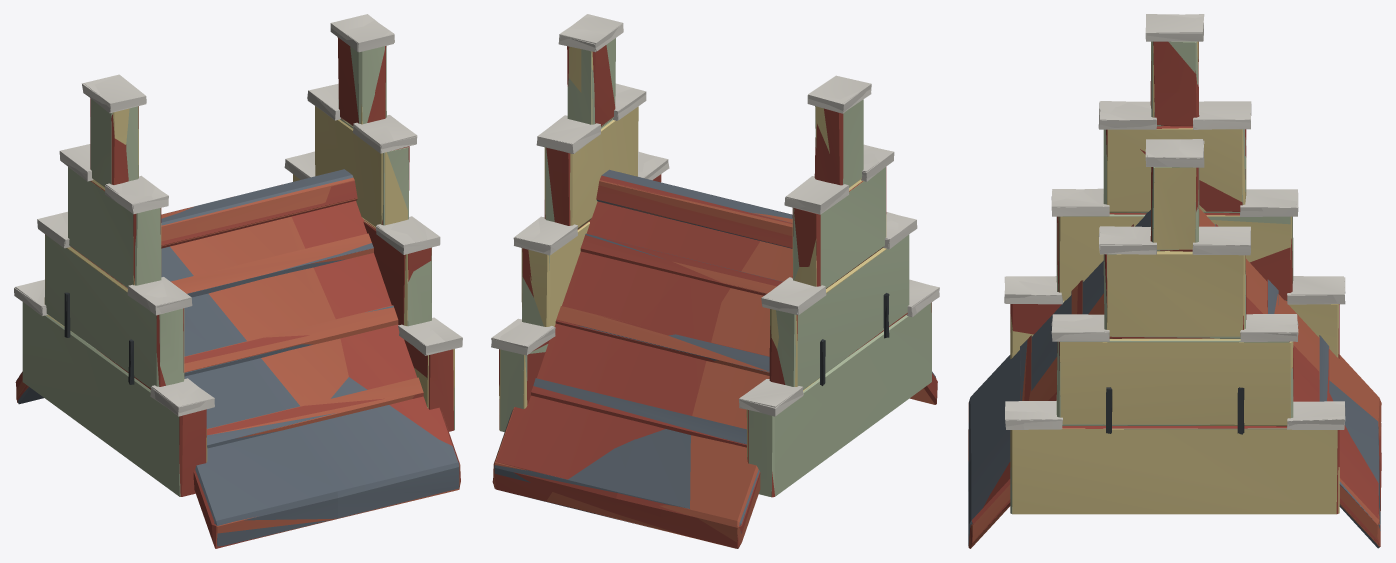
Rendered from roof.stepped_gable.glb.
3 views of the same model, side by side, from view 1: azimuth 30°, elevation 25°; view 2: azimuth 150°, elevation 25°; view 3: azimuth 270°, elevation 25° (orthographic). The views are drawn at different scales.
Visible parts, largest first — view 1: roof.stepped_gable.v2.mesh, roof.stepped_gable.v1.mesh, roof.stepped_gable.v0.mesh; view 2: roof.stepped_gable.v2.mesh, roof.stepped_gable.v0.mesh, roof.stepped_gable.v1.mesh; view 3: roof.stepped_gable.v1.mesh, roof.stepped_gable.v0.mesh, roof.stepped_gable.v2.mesh.
Part boxes in pixels (x1,y1,x2,y2): roof.stepped_gable.v2.mesh: (14, 25, 462, 542); roof.stepped_gable.v1.mesh: (15, 14, 462, 546); roof.stepped_gable.v0.mesh: (14, 20, 462, 548); roof.stepped_gable.v2.mesh: (491, 14, 939, 548); roof.stepped_gable.v0.mesh: (491, 14, 939, 548); roof.stepped_gable.v1.mesh: (492, 24, 939, 548); roof.stepped_gable.v1.mesh: (968, 14, 1380, 548); roof.stepped_gable.v0.mesh: (970, 14, 1381, 546); roof.stepped_gable.v2.mesh: (968, 14, 1381, 548).
Bounding box in the file's own units: 2.07 × 2.7 × 2.51.
